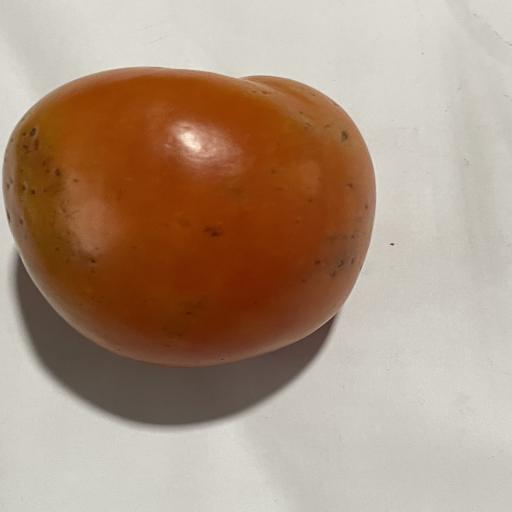ripe: (2, 67, 375, 366)
